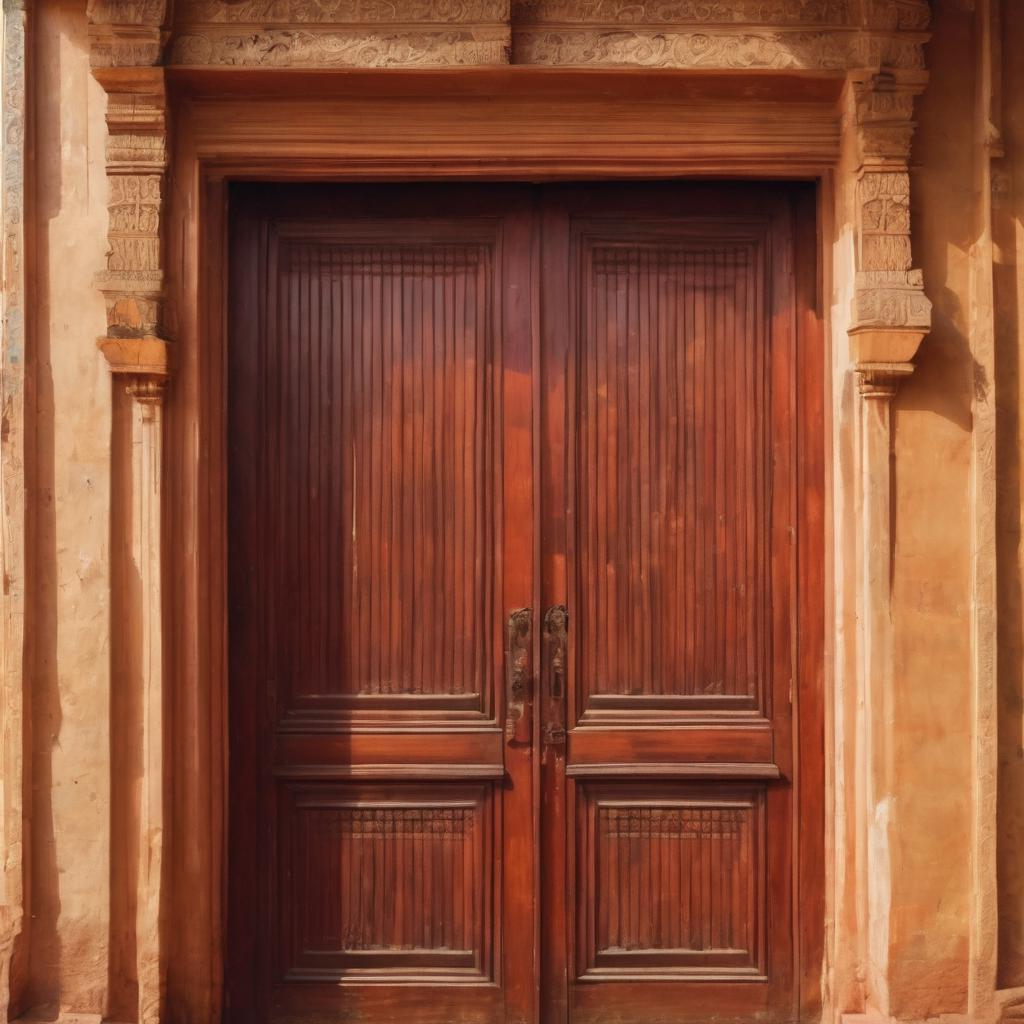door: (216, 164, 537, 1021), (534, 180, 802, 1021)
